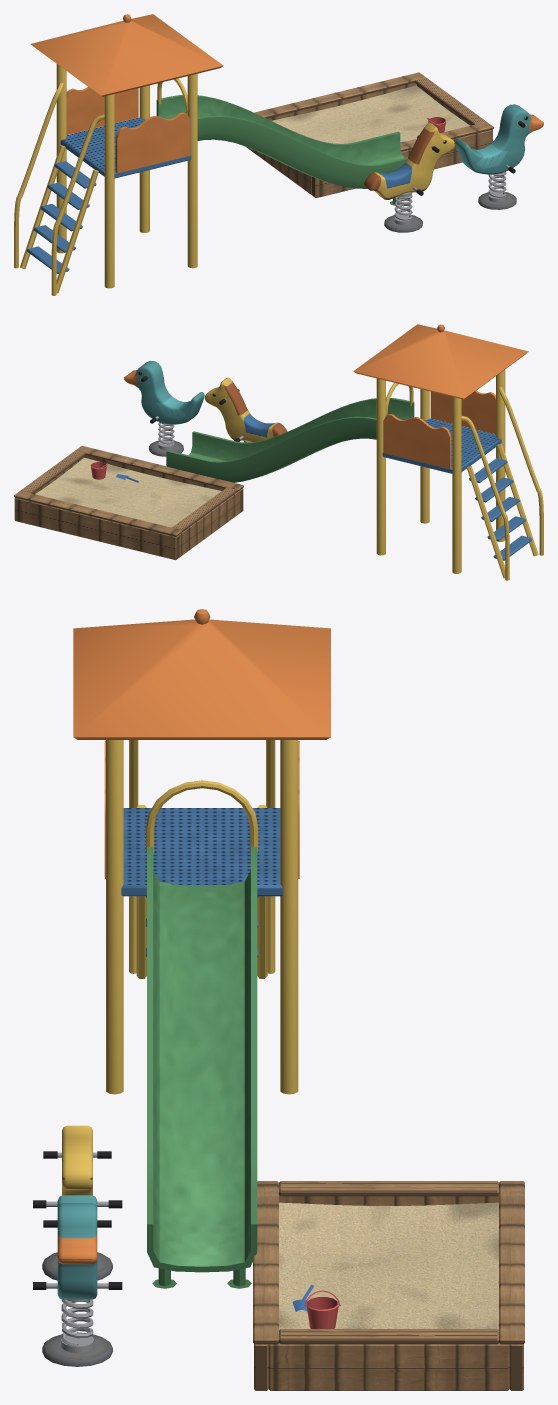
File: park_play_props.glb
3 renders of one model, top to bottom at view 1: azimuth 30°, elevation 25°; view 2: azimuth 150°, elevation 25°; view 3: azimuth 270°, elevation 25°, orthographic. The views are drawn at different scales.
Visible parts, largest first — view 1: PARK_SLIDE, PARK_SANDBOX, PARK_SPRING_A, PARK_SPRING_B; view 2: PARK_SLIDE, PARK_SANDBOX, PARK_SPRING_B, PARK_SPRING_A; view 3: PARK_SLIDE, PARK_SANDBOX, PARK_SPRING_B, PARK_SPRING_A.
Part boxes in pixels (left/top/right/bottom): PARK_SLIDE: left=14, top=14, right=407, bottom=295; PARK_SANDBOX: left=246, top=72, right=493, bottom=197; PARK_SPRING_A: left=364, top=122, right=455, bottom=232; PARK_SPRING_B: left=455, top=104, right=543, bottom=209; PARK_SLIDE: left=166, top=324, right=543, bottom=580; PARK_SANDBOX: left=14, top=446, right=243, bottom=560; PARK_SPRING_B: left=124, top=361, right=204, bottom=456; PARK_SPRING_A: left=204, top=377, right=287, bottom=476; PARK_SLIDE: left=73, top=609, right=330, bottom=1288; PARK_SANDBOX: left=253, top=1181, right=524, bottom=1390; PARK_SPRING_B: left=33, top=1195, right=122, bottom=1366; PARK_SPRING_A: left=33, top=1125, right=122, bottom=1280.
Size of the model in its own units: 4.81 by 2.37 by 2.37.
Materials: 1 (1 with a texture image).
